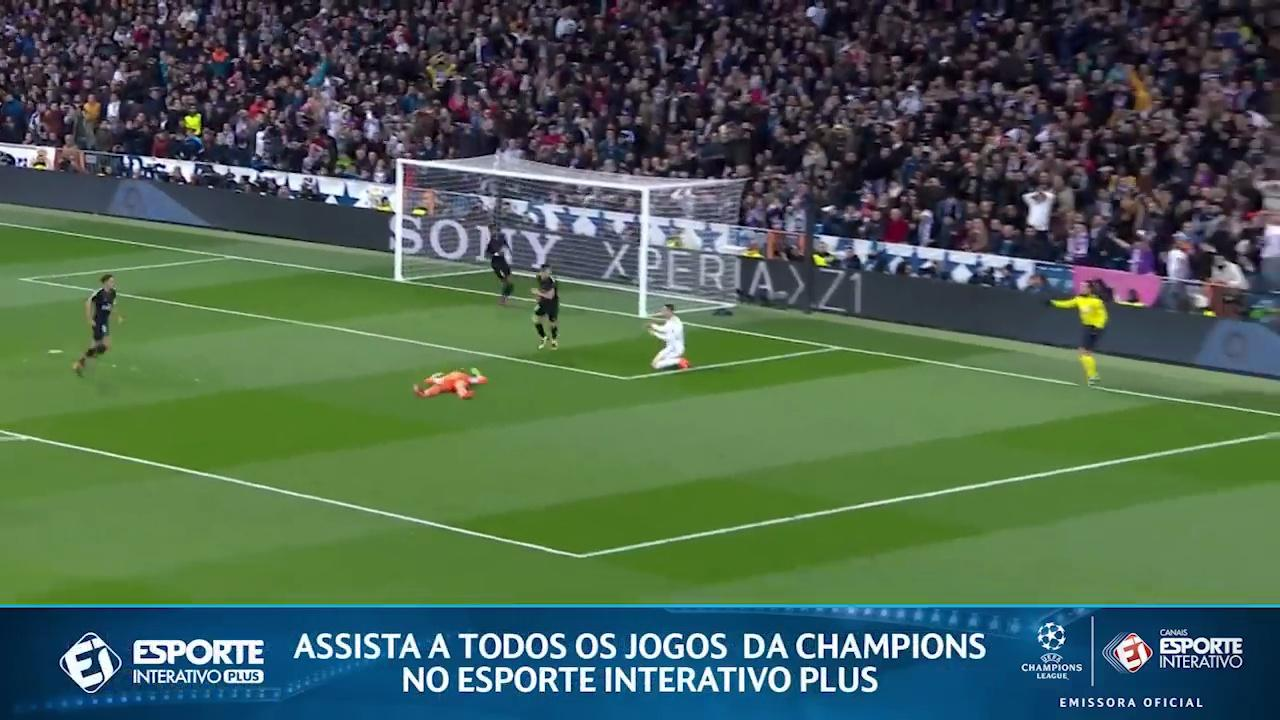player: (73, 274, 121, 373), (647, 304, 688, 369), (533, 264, 559, 349), (413, 368, 486, 398), (485, 229, 513, 303)
referee: (1050, 281, 1108, 385)
